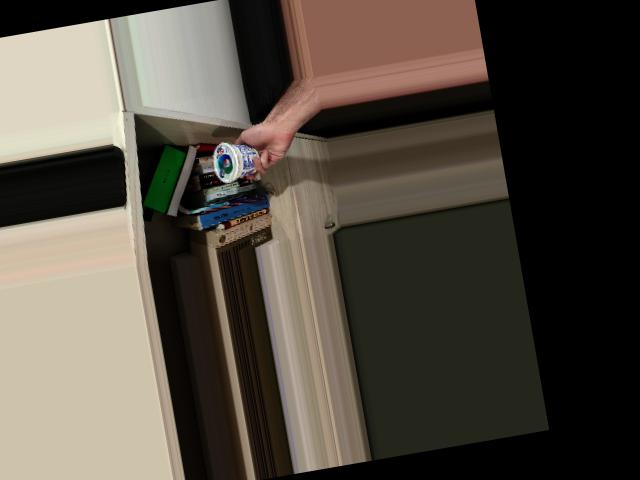cotage: (208, 137, 270, 185)
